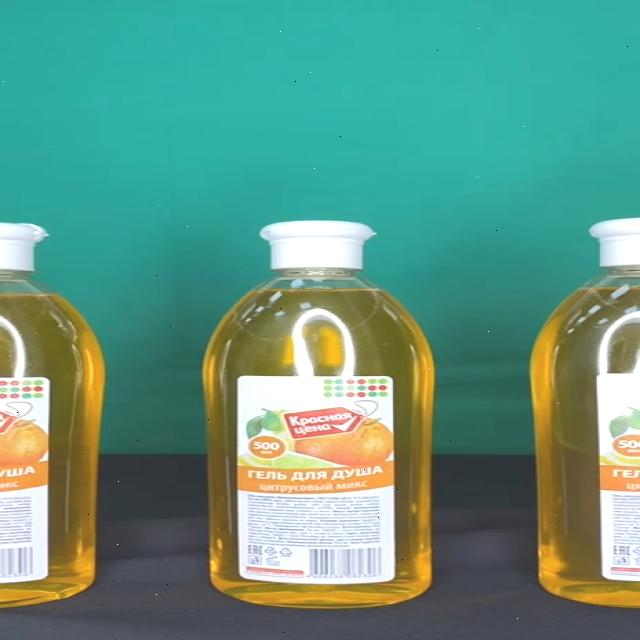Bottle: (203, 222, 435, 608)
Cap: (258, 222, 378, 269)
